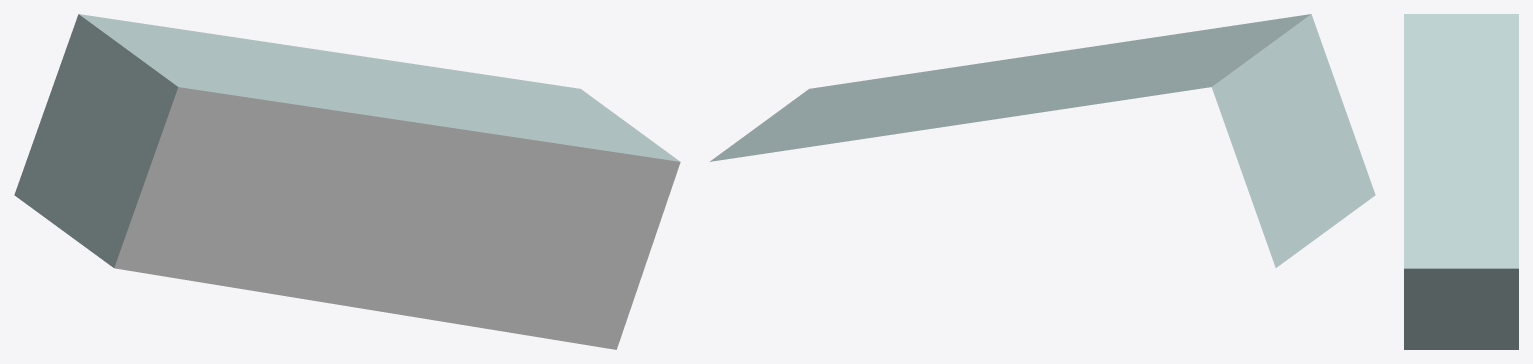
3 renders of one model, left to right at view 1: azimuth 30°, elevation 25°; view 2: azimuth 150°, elevation 25°; view 3: azimuth 270°, elevation 25°, orthographic. The views are drawn at different scales.
Visible parts, largest first — view 1: 0_3_1_2_3_3_2_3_2; view 2: 0_3_1_2_3_3_2_3_2; view 3: 0_3_1_2_3_3_2_3_2.
Boxes of the visible parts, x1=… form: 0_3_1_2_3_3_2_3_2: x1=14, y1=14, x2=680, y2=349; 0_3_1_2_3_3_2_3_2: x1=709, y1=14, x2=1375, y2=267; 0_3_1_2_3_3_2_3_2: x1=1404, y1=14, x2=1518, y2=349.
Bounding box in the file's own units: 9.83 × 6.13 × 3.
